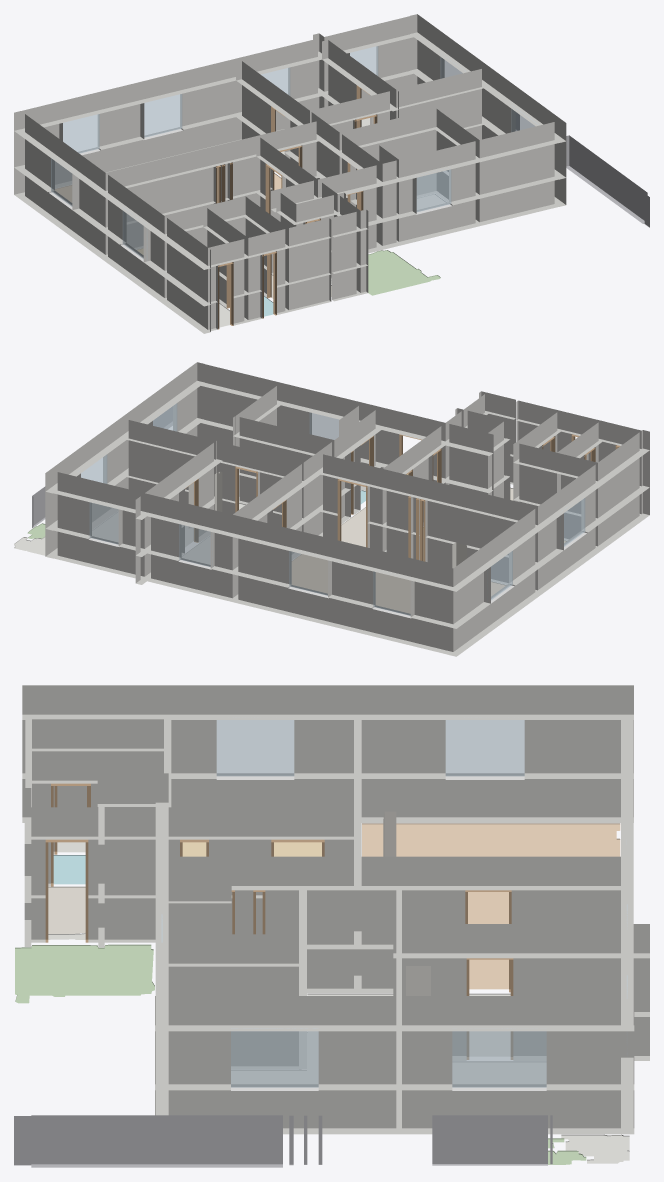
3 renders of one model, top to bottom at view 1: azimuth 30°, elevation 25°; view 2: azimuth 150°, elevation 25°; view 3: azimuth 270°, elevation 25°, orthographic. The views are drawn at different scales.
Parts seen in each view (by area): view 1: walls, railings, floor_12_Outdoor, window_18, window_9, window_17, window_11, window_16, window_19, window_13; view 2: walls, floor_0_Living_Room, window_18, window_17, window_13, window_19, window_16, window_11, railings, floor_4_Entry, floor_2_Undefined, window_9 (+5 smaller); view 3: walls, railings, floor_0_Living_Room, floor_12_Outdoor, window_15, window_21, window_16, window_11, floor_2_Undefined, floor_3_Undefined, floor_15_Entry, floor_16_Undefined (+5 smaller).
Boxes of the visible parts, x1,y1,x2,y2 form: walls: (14, 14, 566, 333); railings: (516, 112, 649, 227); floor_12_Outdoor: (368, 250, 440, 295); window_18: (142, 94, 182, 137); window_9: (416, 167, 451, 212); window_17: (63, 114, 99, 153); window_11: (122, 207, 147, 260); window_16: (51, 158, 72, 206); window_19: (350, 46, 378, 75); window_13: (261, 67, 290, 95); walls: (45, 362, 649, 656); floor_0_Living_Room: (292, 554, 505, 613); window_18: (289, 549, 327, 595); window_17: (373, 571, 410, 615); window_13: (179, 524, 212, 566); window_19: (89, 502, 118, 544); window_16: (487, 551, 512, 600); window_11: (561, 498, 585, 546); railings: (32, 406, 172, 528); floor_4_Entry: (341, 507, 365, 546); floor_2_Undefined: (92, 512, 193, 546); window_9: (309, 412, 338, 439); walls: (22, 685, 649, 1134); railings: (14, 1115, 552, 1167); floor_0_Living_Room: (362, 823, 620, 989); floor_12_Outdoor: (15, 944, 154, 1003); window_15: (452, 1028, 546, 1087); window_21: (231, 1028, 318, 1087); window_16: (445, 720, 524, 776); window_11: (216, 720, 294, 776); floor_2_Undefined: (452, 1061, 546, 1083); floor_3_Undefined: (231, 993, 393, 1083); floor_15_Entry: (48, 886, 85, 933); floor_16_Undefined: (561, 1134, 629, 1163).
Size of the model in its own units: 15.35 by 2.72 by 11.77.
